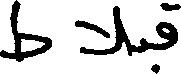X: (0, 0, 50, 66), (75, 1, 120, 59), (156, 0, 180, 73), (140, 33, 145, 57)
